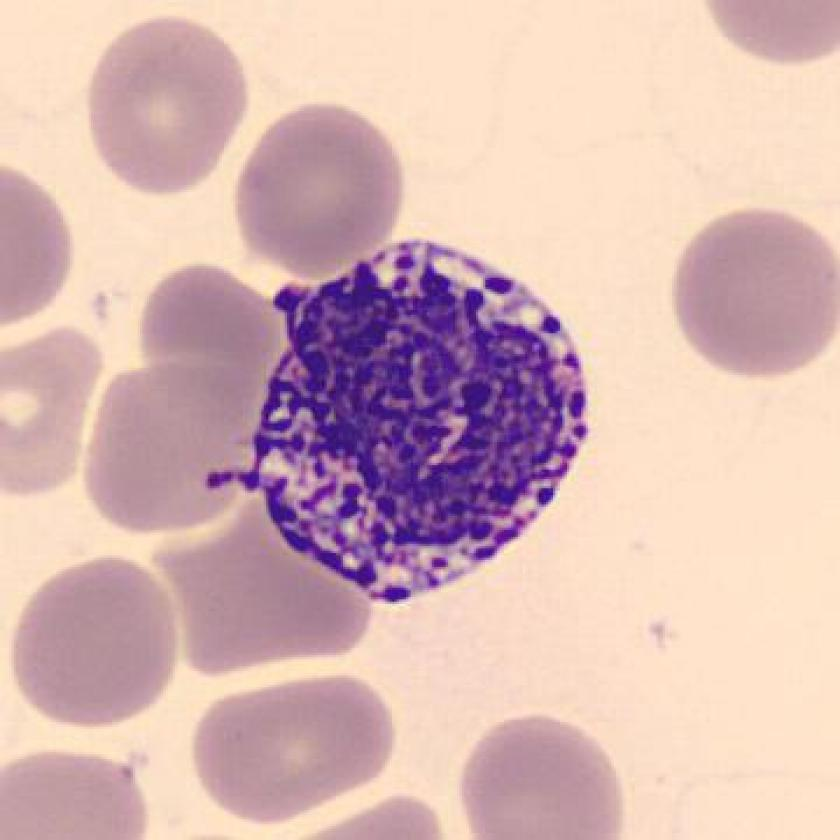basophil: (216, 239, 596, 603)
